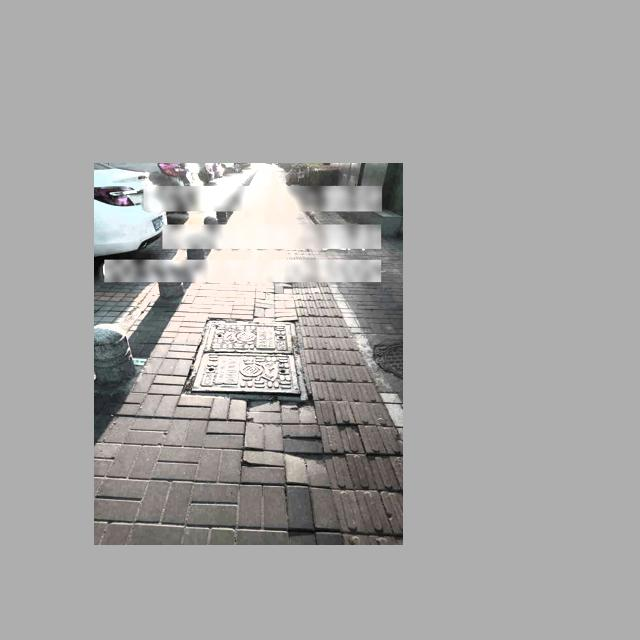good: (185, 320, 310, 399)
